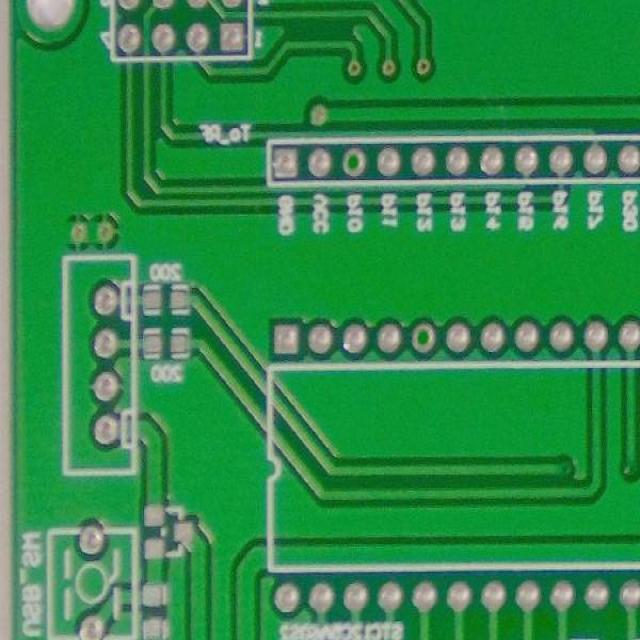missing hole: (340, 143, 372, 184), (408, 319, 442, 356)
